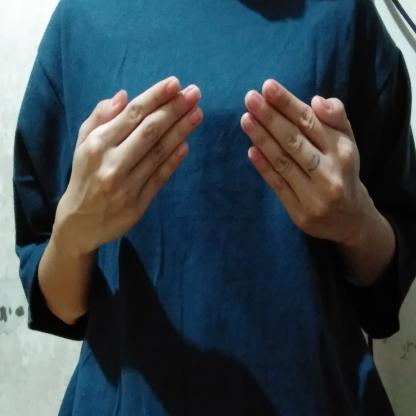night: (54, 67, 374, 262)
